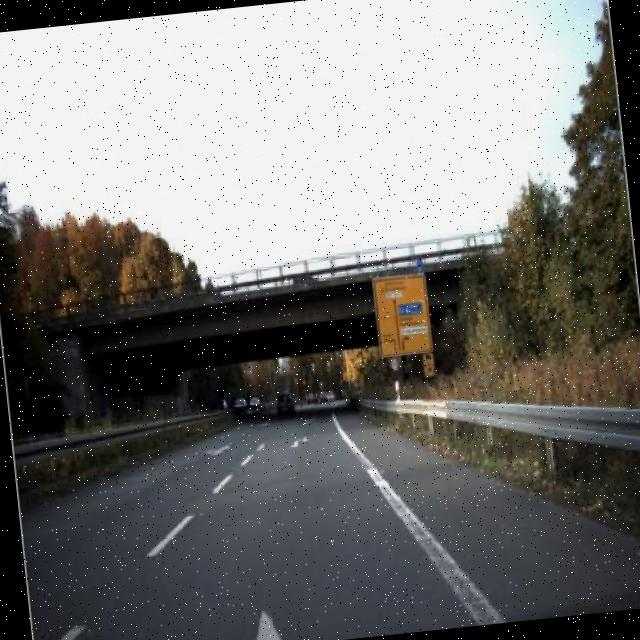Ograniczenie predkosci do 50: (388, 355, 400, 373)
